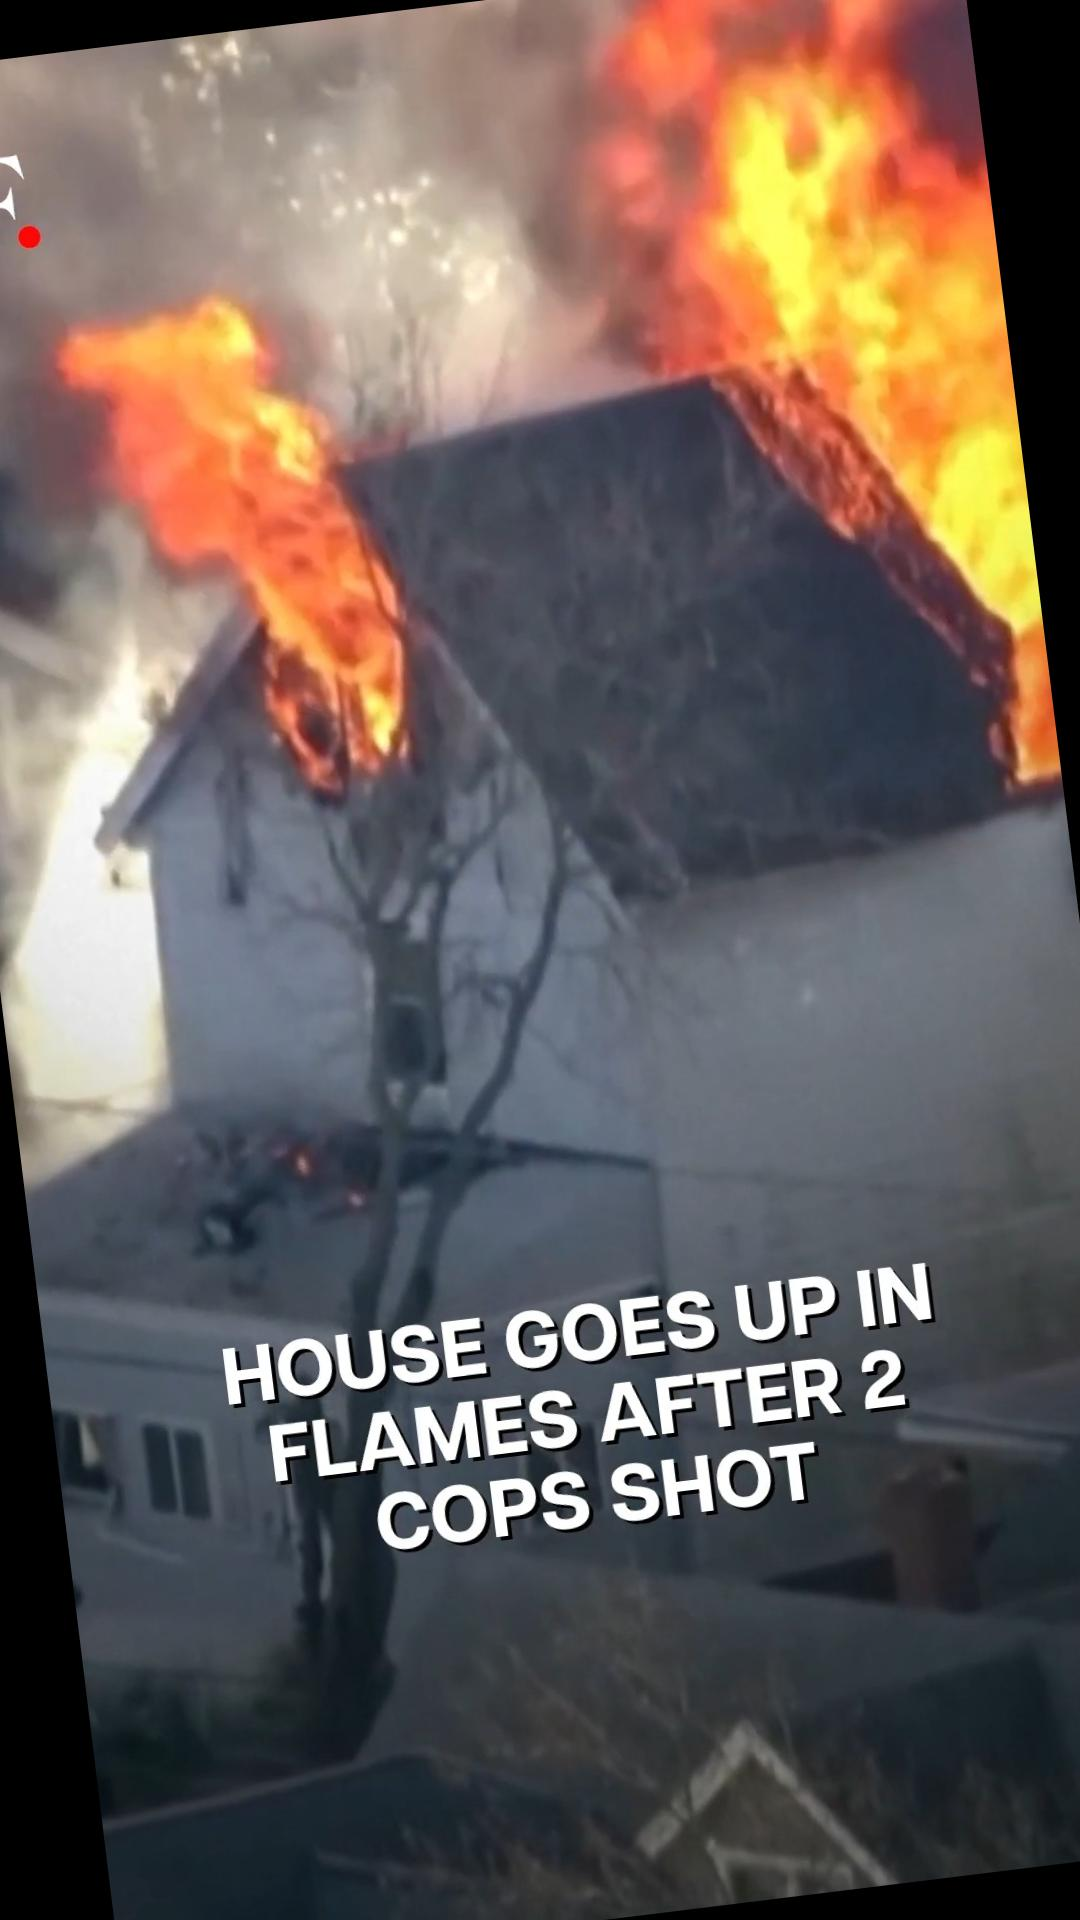Fire: (568, 0, 1062, 839), (73, 281, 442, 828)
